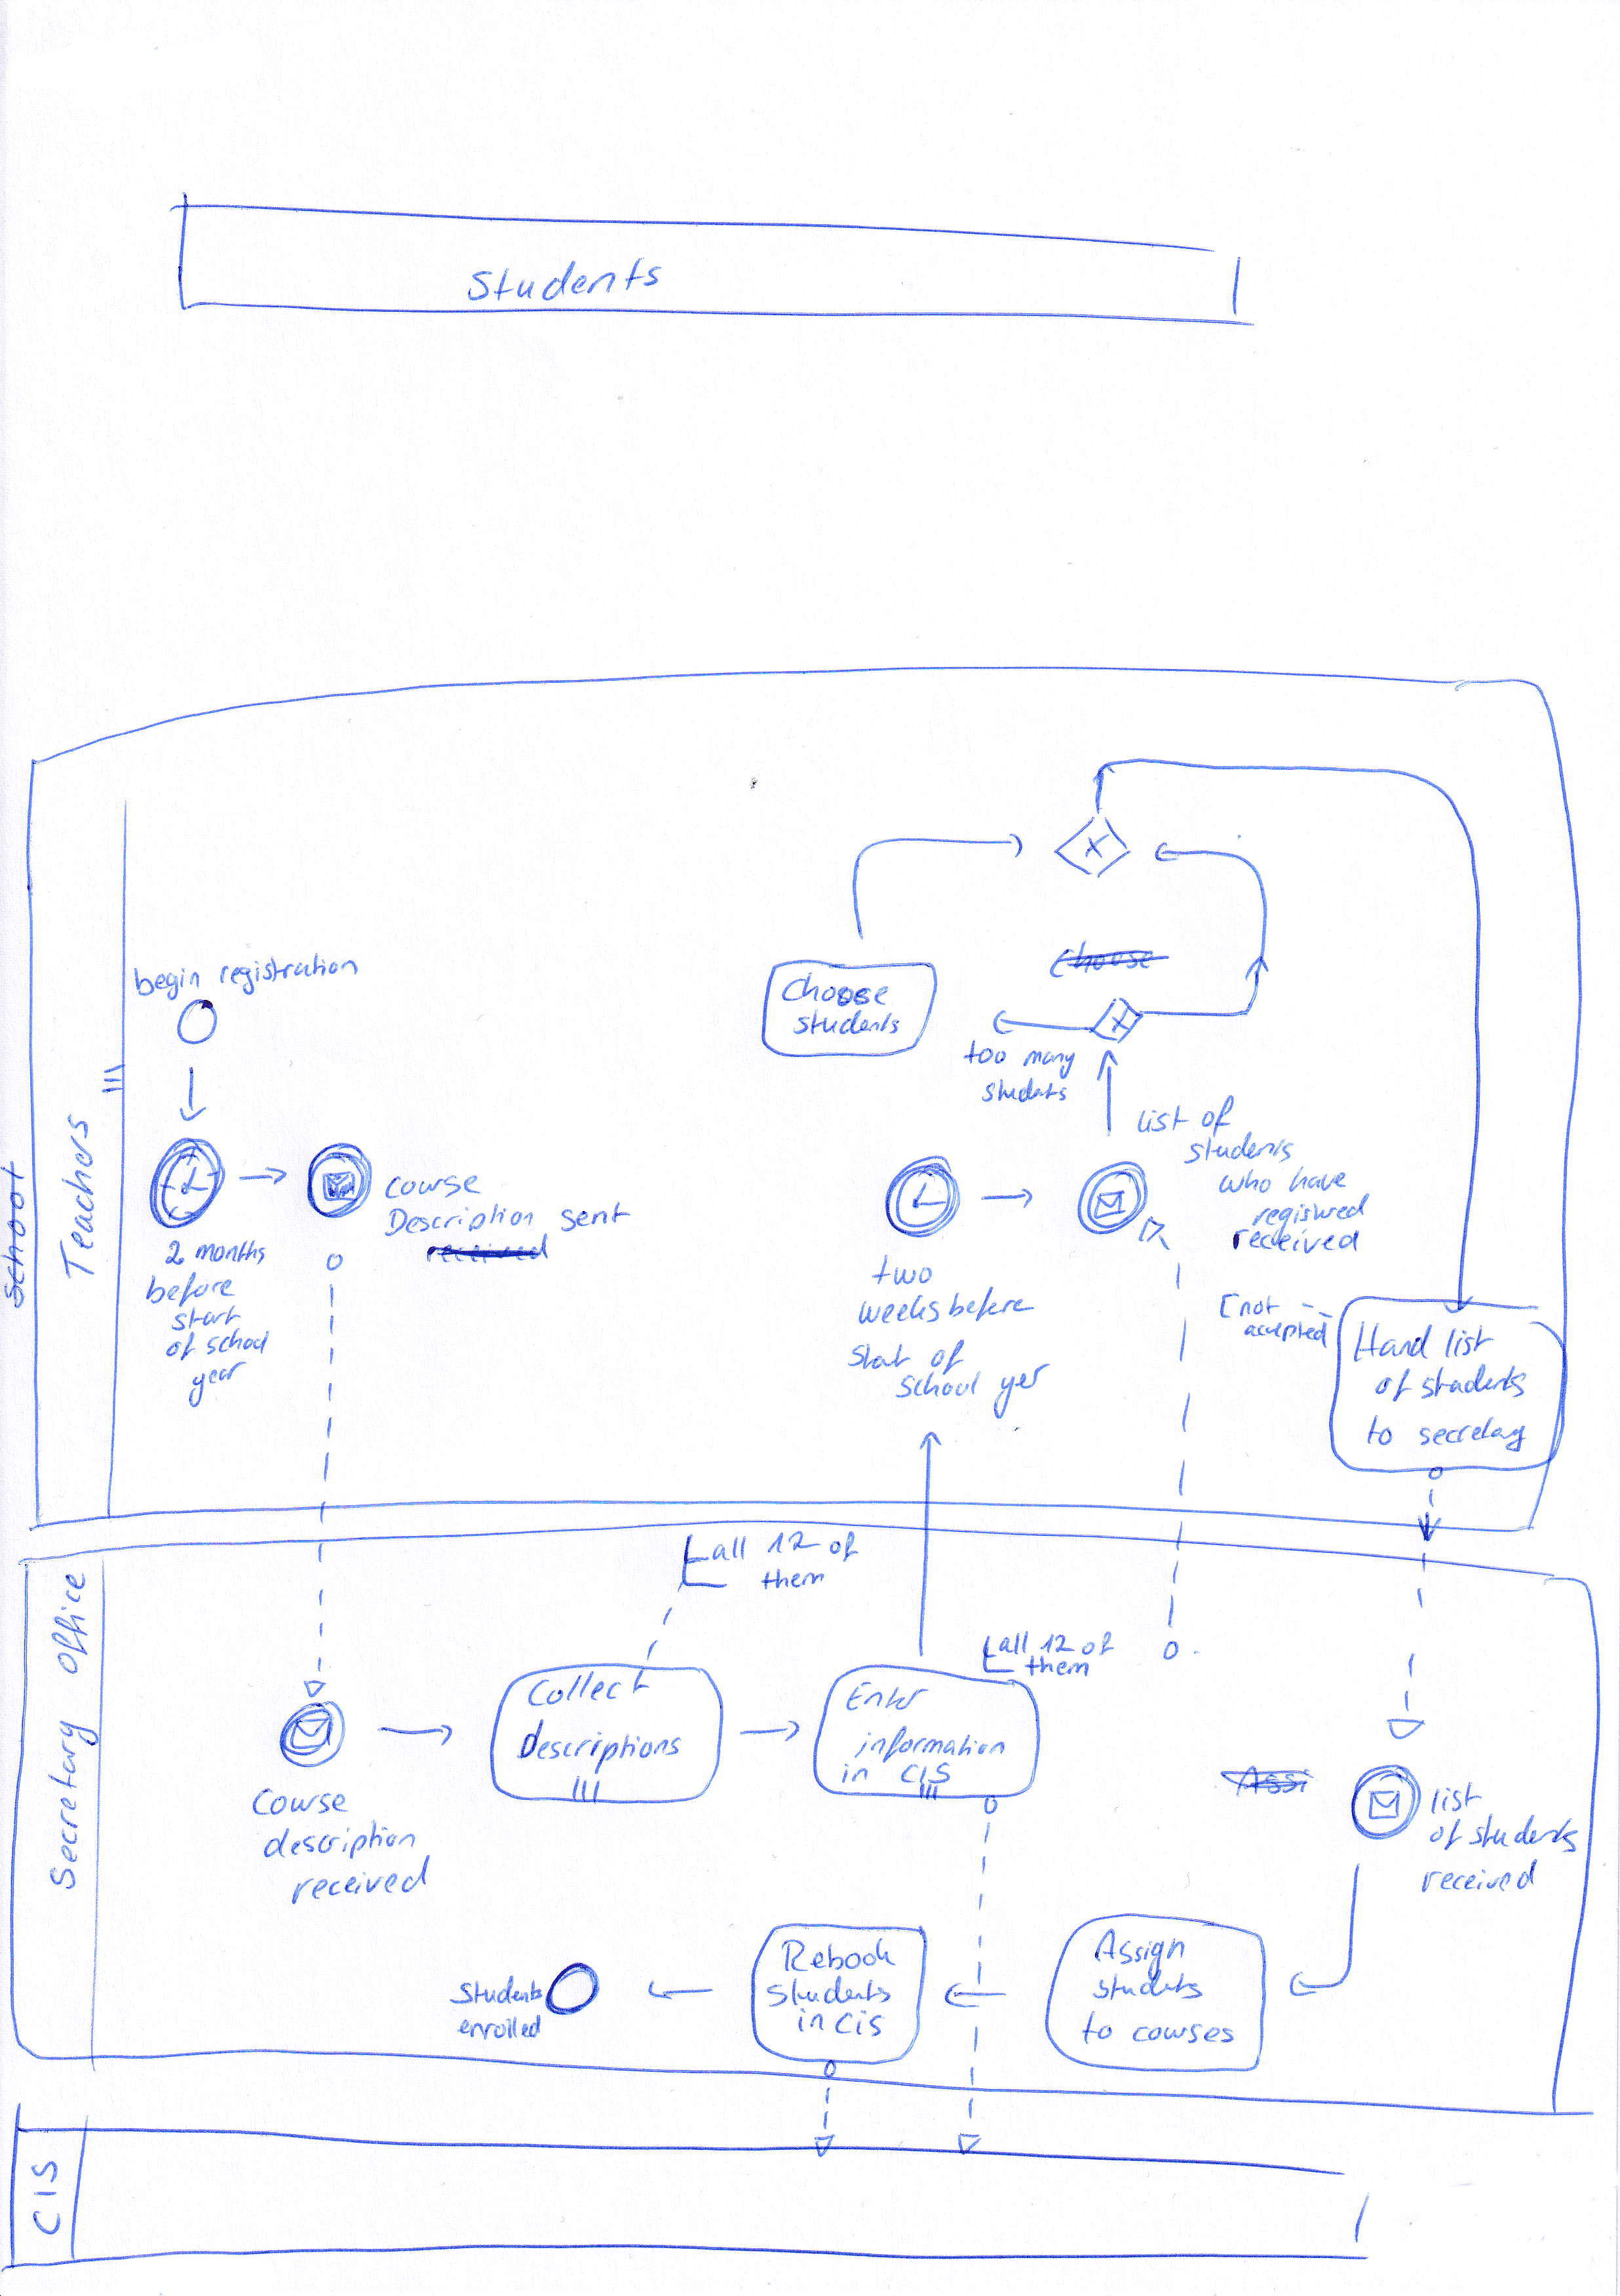12: (766, 1528, 819, 1553), (1040, 1630, 1075, 1654)
2: (161, 1235, 186, 1269)
Assign: (1094, 1927, 1186, 1977)
CIS: (29, 2161, 60, 2234), (902, 1760, 951, 1786)
Choose: (781, 972, 893, 1006)
Cis: (836, 2008, 889, 2038)
Description: (387, 1203, 533, 1235)
Enter: (847, 1677, 928, 1716)
Hand: (1351, 1323, 1431, 1364)
III: (564, 1775, 606, 1803), (102, 1060, 126, 1099), (916, 1781, 942, 1801)
Rebook: (782, 1934, 893, 1972)
Students: (467, 257, 664, 300)
Teachers: (58, 1113, 95, 1280)
accepted: (1243, 1318, 1330, 1348)
all: (710, 1535, 749, 1561), (998, 1629, 1030, 1655)
before: (144, 1273, 234, 1307), (948, 1286, 1033, 1320)
begin: (132, 965, 202, 1000)
collect: (527, 1670, 650, 1705)
course: (251, 1786, 347, 1821), (383, 1175, 482, 1202)
courses: (1130, 2022, 1236, 2047)
description: (265, 1822, 415, 1858)
descriptions: (519, 1721, 682, 1774)
enrolled: (454, 2015, 547, 2042)
have: (1288, 1164, 1347, 1195)
in: (842, 1760, 871, 1786), (794, 2009, 824, 2034)
information: (856, 1725, 1008, 1763)
list: (1429, 1782, 1484, 1814), (1444, 1325, 1492, 1358), (1133, 1107, 1189, 1136)
many: (1022, 1045, 1075, 1079)
months: (197, 1239, 266, 1264)
not: (1221, 1288, 1280, 1320)
of: (1376, 1366, 1413, 1405), (828, 1529, 866, 1564), (1429, 1816, 1463, 1850), (932, 1340, 967, 1377), (1203, 1095, 1233, 1135), (1081, 1630, 1117, 1660), (165, 1333, 197, 1362)
office: (48, 1571, 89, 1674)
received: (288, 1864, 429, 1907), (1421, 1860, 1538, 1894), (1230, 1228, 1362, 1253)
registered: (1252, 1193, 1370, 1228)
registration: (220, 955, 359, 996)
school: (203, 1326, 269, 1356), (897, 1373, 982, 1396)
secretary: (43, 1714, 98, 1887), (1417, 1417, 1527, 1453)
sent: (560, 1202, 631, 1232)
start: (847, 1341, 912, 1374), (174, 1306, 238, 1330)
students: (1469, 1816, 1578, 1854), (768, 1977, 893, 2010), (1418, 1364, 1529, 1398), (1186, 1133, 1294, 1165), (1092, 1969, 1205, 2000), (794, 1012, 904, 1035), (449, 1975, 543, 2003), (981, 1079, 1068, 1106)
them: (1022, 1655, 1091, 1678), (760, 1568, 826, 1592)
to: (1080, 2013, 1116, 2047), (1365, 1415, 1394, 1445)
too: (964, 1040, 1009, 1067)
two: (868, 1254, 934, 1286)
weeks: (857, 1292, 940, 1325)
who: (1219, 1170, 1273, 1196)
year: (994, 1364, 1051, 1417), (187, 1362, 250, 1408)
